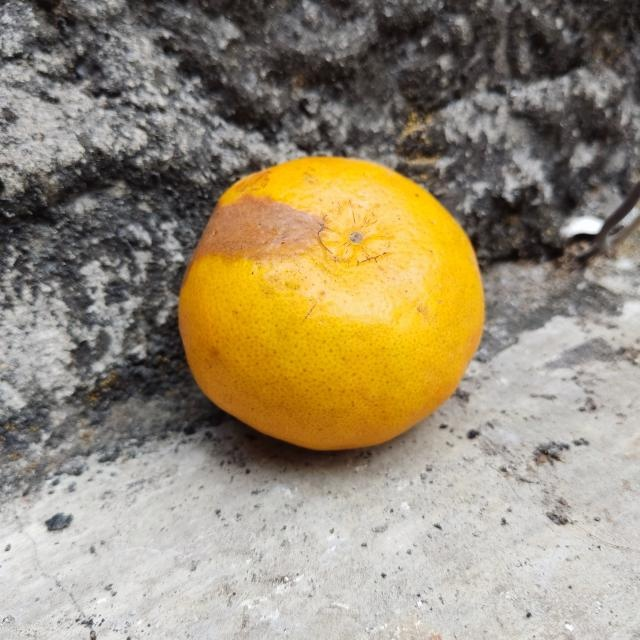agrume: (181, 157, 487, 451)
